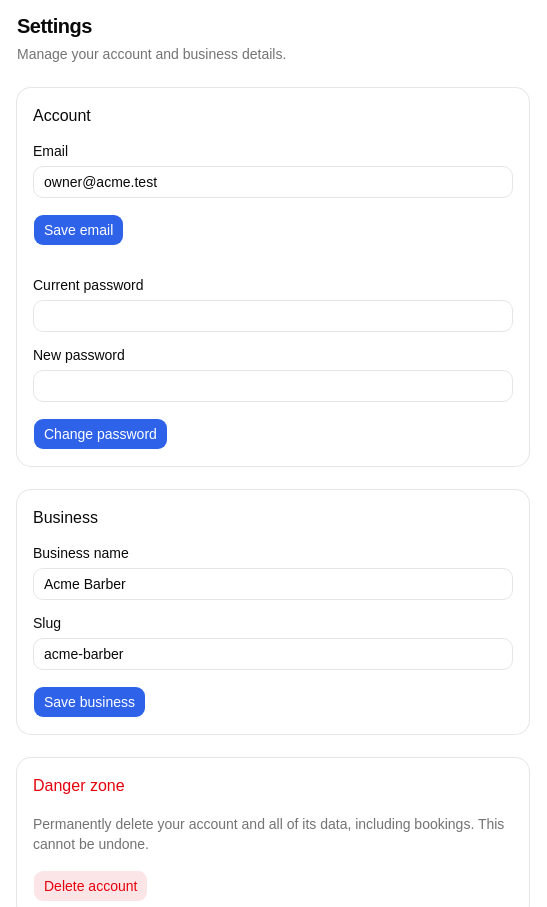
Test: Settings page › updates the email and shows confirmation
Replace the text in the field labelled "Email" with "new@acme.test" at (273, 182), box [33,166,513,198]
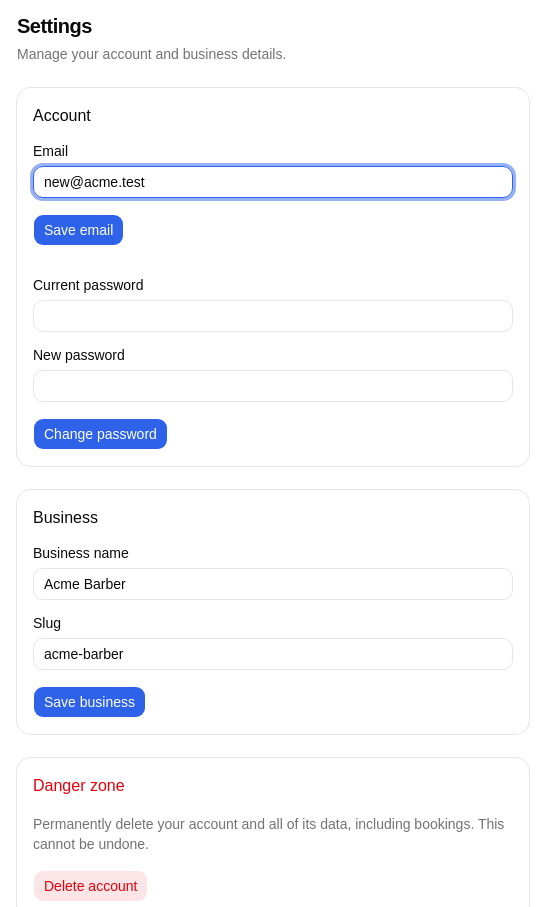
Click the button "Save email" at (79, 230), box [33,214,124,246]
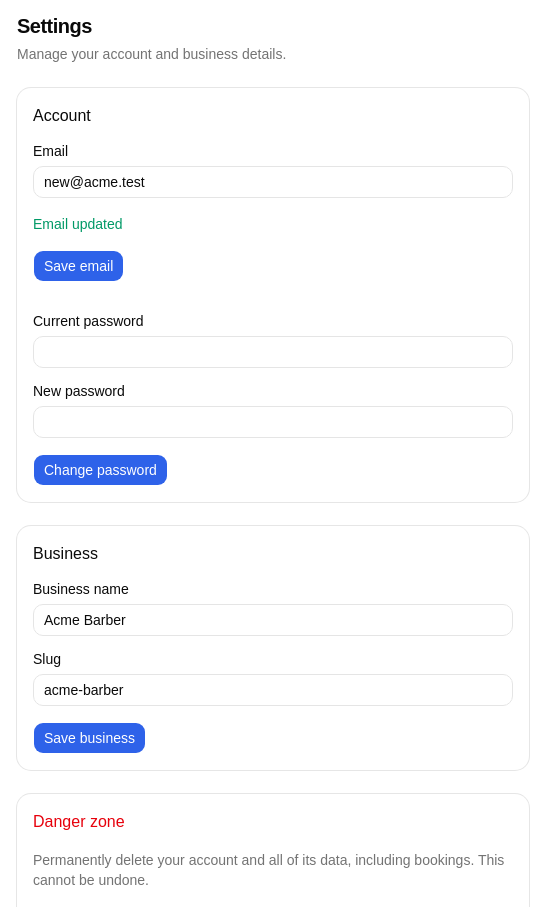
Expected: the text "Email updated" is shown, [33,216,122,232]
